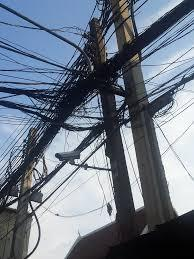wires: (0, 41, 127, 132)
